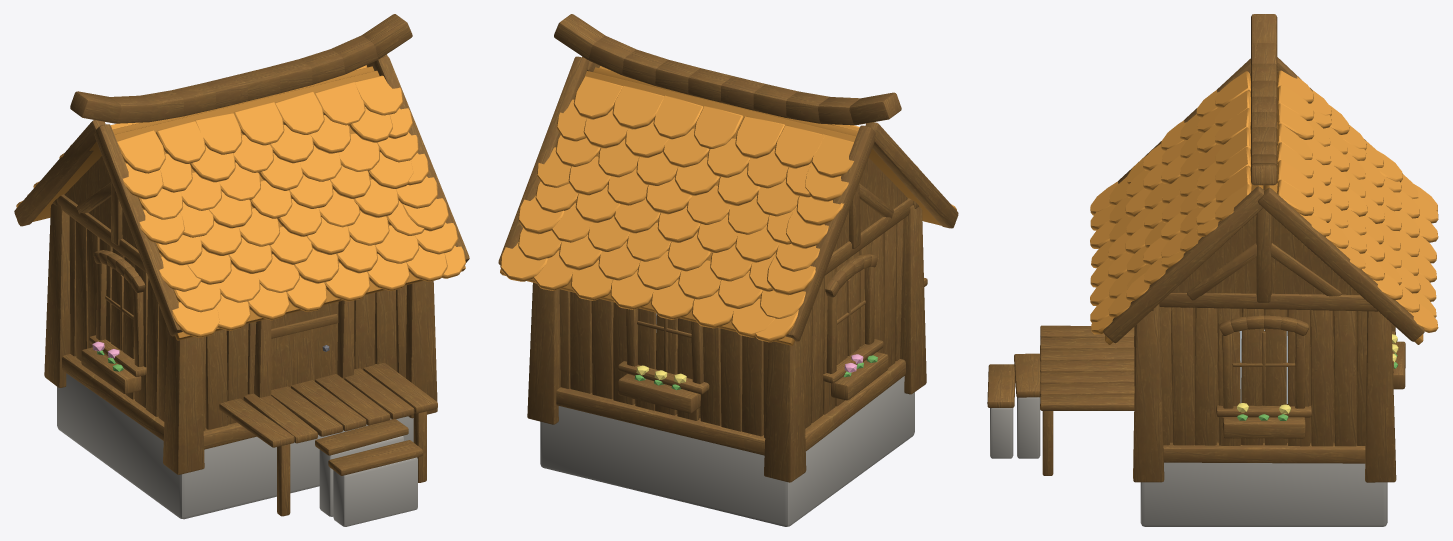
Rendered from hut_orange.gltf.
3 views of the same model, side by side, from view 1: azimuth 30°, elevation 25°; view 2: azimuth 150°, elevation 25°; view 3: azimuth 270°, elevation 25° (orthographic). The views are drawn at different scales.
Visible parts, largest first — view 1: hut_orange; view 2: hut_orange; view 3: hut_orange.
Part boxes in pixels (x1,y1,x2,y2): hut_orange: (14,14,469,526); hut_orange: (498,14,958,526); hut_orange: (987,14,1438,526).
Size of the model in its own units: 4.84 by 5.43 by 5.84.
9 materials, 1 textured.
